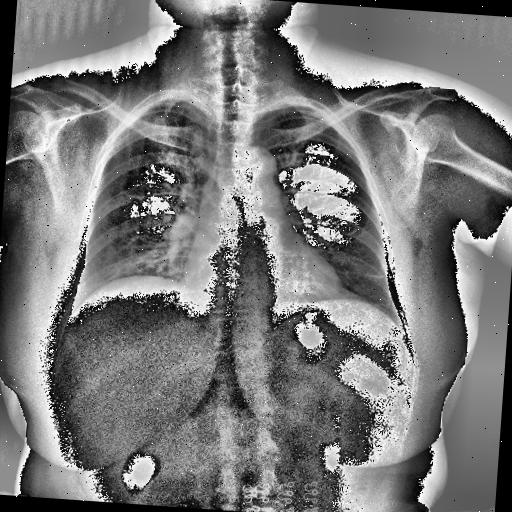1- Atelectasis: (327, 260, 396, 314), (359, 267, 388, 282)
13- Pulmonary fibrosis: (363, 270, 387, 283)
